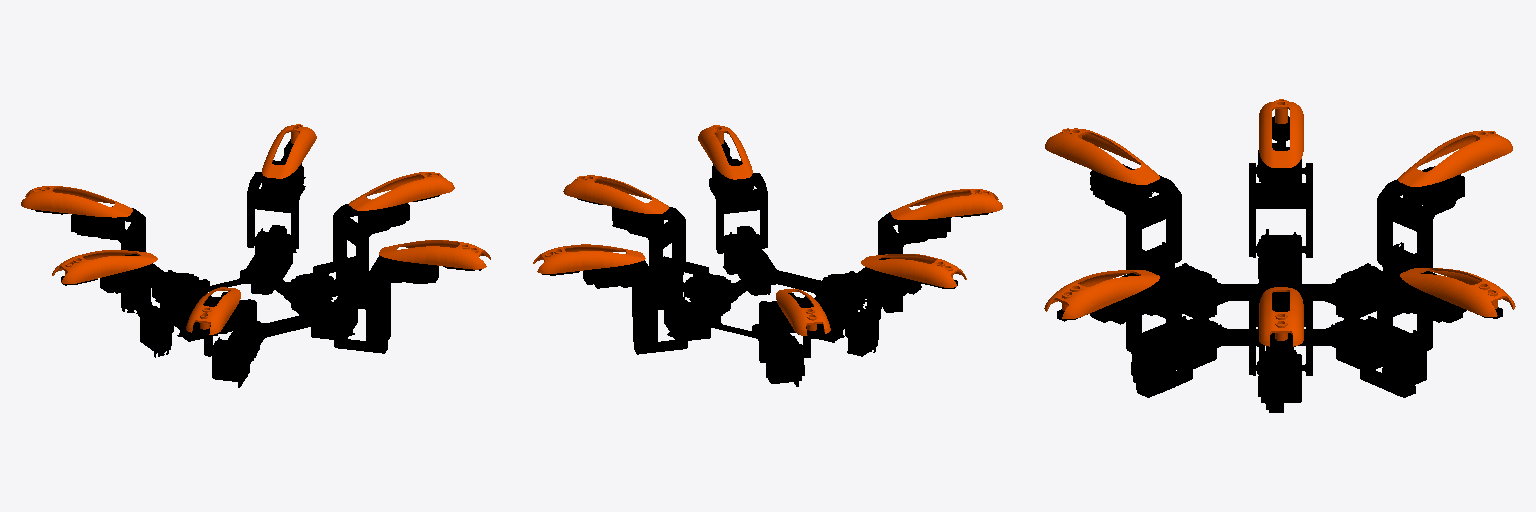
--- What the picture shows (computed from the rendered views, not written in the file) ---
Views: 3 orthographic renders of the robot side by side, from view 1: azimuth 30°, elevation 25°; view 2: azimuth 150°, elevation 25°; view 3: azimuth 270°, elevation 25°.
Robot: hexapod — 43 links, 42 joints (18 revolute, 24 fixed); root link base_link; default pose: every joint at zero.
Visible links, largest first — view 1: base_link, leg3_shield, leg6_shield, leg5_shield, leg2_shield, leg5_femur, leg4_femur, leg4_shield, leg1_MG996f, leg6_femur, leg2_femur, leg1_shield (+15 smaller); view 2: base_link, leg1_shield, leg4_shield, leg5_shield, leg2_shield, leg6_femur, leg5_femur, leg4_femur, leg3_MG996f, leg6_shield, leg2_femur, leg3_shield (+14 smaller); view 3: base_link, leg1_femur, leg3_femur, leg1_shield, leg3_shield, leg6_shield, leg4_shield, leg2_femur, leg2_shield, leg6_femur, leg5_MG996f, leg4_femur (+20 smaller).
Link boxes in pixels (x1=…): base_link: x1=152, y1=252, x2=357, y2=349; leg3_shield: x1=21, y1=186, x2=132, y2=217; leg6_shield: x1=379, y1=240, x2=490, y2=269; leg5_shield: x1=349, y1=172, x2=454, y2=210; leg2_shield: x1=52, y1=250, x2=157, y2=283; leg5_femur: x1=333, y1=204, x2=390, y2=287; leg4_femur: x1=247, y1=172, x2=305, y2=252; leg4_shield: x1=262, y1=124, x2=316, y2=178; leg1_MG996f: x1=212, y1=337, x2=249, y2=387; leg6_femur: x1=366, y1=255, x2=405, y2=331; leg2_femur: x1=136, y1=255, x2=173, y2=334; leg1_shield: x1=186, y1=287, x2=240, y2=334; base_link: x1=664, y1=253, x2=866, y2=344; leg1_shield: x1=890, y1=189, x2=1002, y2=219; leg4_shield: x1=533, y1=244, x2=645, y2=273; leg5_shield: x1=563, y1=175, x2=668, y2=213; leg2_shield: x1=861, y1=254, x2=966, y2=287; leg6_femur: x1=709, y1=173, x2=767, y2=253; leg5_femur: x1=626, y1=207, x2=685, y2=290; leg4_femur: x1=618, y1=260, x2=657, y2=336; leg3_MG996f: x1=766, y1=336, x2=804, y2=386; leg6_shield: x1=698, y1=125, x2=752, y2=179; leg2_femur: x1=845, y1=258, x2=885, y2=339; leg3_shield: x1=776, y1=288, x2=830, y2=335; base_link: x1=1161, y1=261, x2=1391, y2=361; leg1_femur: x1=1105, y1=175, x2=1181, y2=275; leg3_femur: x1=1377, y1=179, x2=1456, y2=273; leg1_shield: x1=1045, y1=128, x2=1159, y2=184; leg3_shield: x1=1398, y1=130, x2=1512, y2=186; leg6_shield: x1=1044, y1=270, x2=1159, y2=318; leg4_shield: x1=1400, y1=268, x2=1515, y2=316; leg2_femur: x1=1249, y1=163, x2=1312, y2=257; leg2_shield: x1=1259, y1=99, x2=1303, y2=167; leg6_femur: x1=1122, y1=275, x2=1181, y2=370; leg5_MG996f: x1=1256, y1=347, x2=1301, y2=409; leg4_femur: x1=1377, y1=273, x2=1436, y2=367.
Size in the robot's own frame: 0.4999 by 0.4181 by 0.1366 metres.
40 mesh visuals loaded from 9 distinct referenced files (8 binary STL); not drawn: 3 (reference not matched to a file when rendering).

The robot description file, URDF, robot "hexapod":
<?xml version='1.0' encoding='utf-8'?>
<robot name="hexapod">

    <material name="black">
        <color rgba="0 0 0 1" />
    </material>

    <material name="white">
        <color rgba="1 1 1 1" />
    </material>

    <material name="orange">
        <color rgba="0.902 0.345 0 1" />
    </material>

    <link name="base_link">
        <inertial>
            <origin xyz="-1.5537100736355798e-14 -0.002038403435229488 0.006938019086318811" rpy="0.0 0.0 0.0" />
            <mass value="0.6502139585141" />
            <inertia ixx="0.0022857824718964096" iyy="0.0021948811514730725" izz="0.00445927593589297" ixy="9.76998087550513e-17" iyz="2.7823052373888905e-06" ixz="-1.4621550745303059e-18" />
        </inertial>
        <visual name="base_link_visual">
            <origin xyz="0.0 0.0 0.0" rpy="0.0 0.0 0.0" />
            <geometry>
                <mesh filename="meshes/base.stl" scale="0.001 0.001 0.001" />
            </geometry>
            <material name="black" />
        </visual>
        <collision name="base_link_collision">
            <origin xyz="0.0 0.0 0.0" rpy="0.0 0.0 0.0" />
            <geometry>
                <mesh filename="meshes/base.stl" scale="0.001 0.001 0.001" />
            </geometry>
        </collision>
    </link>

    <!--Leg 1 links-->
    <link name="leg1_MG996c">
        <inertial>
            <origin xyz="-0.021304026820941267 0.013879409959177549 0.008216241413562222" rpy="0.0 -0.0 0.0" />
            <mass value="0.20641808912389753" />
            <inertia ixx="3.9125183253751247e-05" iyy="3.912518931914607e-05" izz="3.601102430698445e-05" ixy="1.135155464957328e-05" iyz="5.607951873505041e-07" ixz="-5.607857783954167e-07" />
        </inertial>
        <visual name="leg1_MG996c_visual">
            <origin xyz="-0.013930002111251399 -0.007283200121891467 -2.220446049250313e-18" rpy="3.141592653589793 -0.0 2.356194490192345" />
            <geometry>
                <mesh filename="meshes/MG996.stl" scale="0.001 0.001 0.001" />
            </geometry>
            <material name="black" />
        </visual>
        <collision name="leg1_MG996c_collision">
            <origin xyz="-0.013930002111251399 -0.007283200121891467 -2.220446049250313e-18" rpy="3.141592653589793 -0.0 2.356194490192345" />
            <geometry>
                <mesh filename="meshes/MG996.stl" scale="0.001 0.001 0.001" />
            </geometry>
        </collision>
    </link>
    <link name="leg1_coxa">
        <inertial>
            <origin xyz="-0.018048605950277 -0.017834011443633724 -0.02487963924889388" rpy="0.0 -0.0 0.0" />
            <mass value="0.07898637744159479" />
            <inertia ixx="6.0245481740664724e-05" iyy="6.0668022033295594e-05" izz="2.4265877776945624e-05" ixy="-1.0825354473683701e-05" iyz="4.178916067895382e-06" ixz="4.235353595363469e-06" />
        </inertial>
        <visual name="leg1_coxa_visual">
            <origin xyz="-0.03747666052846265 -0.03747666052845746 0.0010000000000000054" rpy="0.0 -0.0 -0.7853981633974483" />
            <geometry>
                <mesh filename="meshes/coxa_right.stl" scale="0.001 0.001 0.001" />
            </geometry>
            <material name="black" />
        </visual>
        <collision name="leg1_coxa_collision">
            <origin xyz="-0.03747666052846265 -0.03747666052845746 0.0010000000000000054" rpy="0.0 -0.0 -0.7853981633974483" />
            <geometry>
                <mesh filename="meshes/coxa_right.stl" scale="0.001 0.001 0.001" />
            </geometry>
        </collision>
    </link>
    <link name="leg1_MG996f">
        <inertial>
            <origin xyz="0.024878447972789576 0.009522068265377008 0.002097446836807624" rpy="0.0 -0.0 0.0" />
            <mass value="0.20641808912389753" />
            <inertia ixx="2.777363163687565e-05" iyy="4.3243875968366954e-05" izz="4.32438892746384e-05" ixy="5.607883384320042e-07" iyz="-7.232858314518663e-06" ixz="5.607926273139098e-07" />
        </inertial>
        <visual name="leg1_MG996f_visual">
            <origin xyz="0.004700000000000009 0.010606600931670993 -0.010606605868277549" rpy="2.356194490192345 5.551115123125783e-17 5.551115123125783e-17" />
            <geometry>
                <mesh filename="meshes/MG996.stl" scale="0.001 0.001 0.001" />
            </geometry>
            <material name="black" />
        </visual>
        <collision name="leg1_MG996f_collision">
            <origin xyz="0.004700000000000009 0.010606600931670993 -0.010606605868277549" rpy="2.356194490192345 5.551115123125783e-17 5.551115123125783e-17" />
            <geometry>
                <mesh filename="meshes/MG996.stl" scale="0.001 0.001 0.001" />
            </geometry>
        </collision>
    </link>
    <link name="leg1_femur">
        <inertial>
            <origin xyz="-0.018388939255642358 0.013969821069098333 0.04552760716696073" rpy="0.0 -0.0 0.0" />
            <mass value="0.2061355014221324" />
            <inertia ixx="0.0001174197530764338" iyy="0.0001250673024832975" izz="0.00010098830847293013" ixy="3.467542980046352e-05" iyz="1.1418298465589501e-05" ixz="4.86372304098529e-06" />
        </inertial>
        <visual name="leg1_femur_visual">
            <origin xyz="-0.030405593688388067 0.03040558825519895 1.1102230246251566e-17" rpy="1.5707963267948966 -0.6108652381980156 -2.356194490192345" />
            <geometry>
                <mesh filename="meshes/femur_right.stl" scale="0.001 0.001 0.001" />
            </geometry>
            <material name="black" />
        </visual>
        <collision name="leg1_femur_collision">
            <origin xyz="-0.030405593688388067 0.03040558825519895 1.1102230246251566e-17" rpy="1.5707963267948966 -0.6108652381980156 -2.356194490192345" />
            <geometry>
                <mesh filename="meshes/femur_right.stl" scale="0.001 0.001 0.001" />
            </geometry>
        </collision>
    </link>
    <link name="leg1_MG996t">
        <inertial>
            <origin xyz="-0.02074495471430888 -0.006501630387875857 2.688362599201355e-09" rpy="0.0 -0.0 0.0" />
            <mass value="0.20641808912389753" />
            <inertia ixx="3.1099250465400734e-05" iyy="3.268540547845828e-05" izz="5.047674093601982e-05" ixy="4.1186963350551605e-06" iyz="6.848918567926504e-12" ixz="2.560036816874473e-12" />
        </inertial>
        <visual name="leg1_MG996t_visual">
            <origin xyz="-0.029203512090292722 0.013576447026899193 0.009750004907434402" rpy="-1.5707963267948968 -7.053861262421881e-16 -0.7853981633974486" />
            <geometry>
                <mesh filename="meshes/MG996.stl" scale="0.001 0.001 0.001" />
            </geometry>
            <material name="black" />
        </visual>
        <collision name="leg1_MG996t_collision">
            <origin xyz="-0.029203512090292722 0.013576447026899193 0.009750004907434402" rpy="-1.5707963267948968 -7.053861262421881e-16 -0.7853981633974486" />
            <geometry>
                <mesh filename="meshes/MG996.stl" scale="0.001 0.001 0.001" />
            </geometry>
        </collision>
    </link>
    <link name="leg1_tibia">
        <inertial>
            <origin xyz="-0.03995109484200471 -0.025800551093325356 0.013220214065198625" rpy="0.0 -0.0 0.0" />
            <mass value="0.09285304614043148" />
            <inertia ixx="5.1309863875431536e-05" iyy="5.664323795965707e-05" izz="9.868903018824682e-05" ixy="-4.755379767065316e-05" iyz="5.1937257807535475e-06" ixz="6.548081736350214e-06" />
        </inertial>
        <visual name="leg1_tibia_visual">
            <origin xyz="-0.03648670888047988 -0.026162954811762767 -0.004750004907434402" rpy="-0.7853981633974483 -1.570796326794896 0" />
            <geometry>
                <mesh filename="meshes/tibia_right.stl" scale="0.001 0.001 0.001" />
            </geometry>
            <material name="black" />
        </visual>
        <collision name="leg1_tibia_collision">
            <origin xyz="-0.03648670888047988 -0.026162954811762767 -0.004750004907434402" rpy="-0.7853981633974483 -1.570796326794896 0" />
            <geometry>
                <mesh filename="meshes/tibia_right.stl" scale="0.001 0.001 0.001" />
            </geometry>
        </collision>
    </link>
    <link name="leg1_shield">
        <inertial>
            <origin xyz="0.0079568594346555 0.02272417345231009 -0.022724629731227283" rpy="0.0 -0.0 0.0" />
            <mass value="0.09400422482344938" />
            <inertia ixx="0.00011235877990886396" iyy="5.845313432736128e-05" izz="5.845346139379858e-05" ixy="2.724396003726077e-06" iyz="4.05725750517341e-05" ixz="-2.724973858622389e-06" />
        </inertial>
        <visual name="leg1_shield_visual">
            <origin xyz="-4.907434369982866e-09 0.0014142156932291528 0.02687005387244227" rpy="1.5707963267948968 0.7853981633974483 1.570796326794897" />
            <geometry>
                <mesh filename="meshes/shield.stl" scale="0.001 0.001 0.001" />
            </geometry>
            <material name="orange" />
        </visual>
        <collision name="leg1_shield_collision">
            <origin xyz="-4.907434369982866e-09 0.0014142156932291528 0.02687005387244227" rpy="1.5707963267948968 0.7853981633974483 1.570796326794897" />
            <geometry>
                <mesh filename="meshes/shield.stl" scale="0.001 0.001 0.001" />
            </geometry>
        </collision>
    </link>

    <!--Leg 2 links-->
    <link name="leg2_MG996c">
        <inertial>
            <origin xyz="-0.02487844797278954 -0.00524999778092809 0.008216241413562222" rpy="0.0 -0.0 0.0" />
            <mass value="0.20641808912389753" />
            <inertia ixx="2.7773631636875524e-05" iyy="5.047674093602156e-05" izz="3.601102430698445e-05" ixy="-3.0326974862454255e-12" iyz="6.653135933115804e-12" ixz="-7.93077506528665e-07" />
        </inertial>
        <visual name="leg2_MG996c_visual">
            <origin xyz="-0.00469999999999998 -0.014999999999999914 -2.220446049250313e-18" rpy="3.141592653589793 -0.0 3.141592653589793" />
            <geometry>
                <mesh filename="meshes/MG996.stl" scale="0.001 0.001 0.001" />
            </geometry>
            <material name="black" />
        </visual>
        <collision name="leg2_MG996c_collision">
            <origin xyz="-0.00469999999999998 -0.014999999999999914 -2.220446049250313e-18" rpy="3.141592653589793 -0.0 3.141592653589793" />
            <geometry>
                <mesh filename="meshes/MG996.stl" scale="0.001 0.001 0.001" />
            </geometry>
        </collision>
    </link>
    <link name="leg2_coxa">
        <inertial>
            <origin xyz="-0.025372840494155984 0.00015174123084907715 -0.02487963924889388" rpy="0.0 -0.0 0.0" />
            <mass value="0.07898637744159479" />
            <inertia ixx="4.963139741329645e-05" iyy="7.128210636066343e-05" izz="2.4265877776945407e-05" ixy="2.112701463155309e-07" iyz="-3.990735838609893e-08" ixz="5.949787137622529e-06" />
        </inertial>
        <visual name="leg2_coxa_visual">
            <origin xyz="-0.05299999999999999 -9.428360203700333e-17 0.0010000000000000054" rpy="0.0 -0.0 -1.5707963267948966" />
            <geometry>
                <mesh filename="meshes/coxa_right.stl" scale="0.001 0.001 0.001" />
            </geometry>
            <material name="black" />
        </visual>
        <collision name="leg2_coxa_collision">
            <origin xyz="-0.05299999999999999 -9.428360203700333e-17 0.0010000000000000054" rpy="0.0 -0.0 -1.5707963267948966" />
            <geometry>
                <mesh filename="meshes/coxa_right.stl" scale="0.001 0.001 0.001" />
            </geometry>
        </collision>
    </link>
    <link name="leg2_MG996t">
        <inertial>
            <origin xyz="-0.010071550349059244 -0.019266241413562125 2.6883626169649235e-09" rpy="0.0 -0.0 0.0" />
            <mass value="0.20641808912389753" />
            <inertia ixx="2.7773631636875e-05" iyy="3.601102430698423e-05" izz="5.047674093602069e-05" ixy="-7.930775065286854e-07" iyz="6.653135934699388e-12" ixz="-3.0326969234495404e-12" />
        </inertial>
        <visual name="leg2_MG996t_visual">
            <origin xyz="-0.030249998321848822 -0.0110499999999999 0.00975000490743443" rpy="-1.5707963267948966 -5.608327010386881e-16 -6.123233995736767e-17" />
            <geometry>
                <mesh filename="meshes/MG996.stl" scale="0.001 0.001 0.001" />
            </geometry>
            <material name="black" />
        </visual>
        <collision name="leg2_MG996t_collision">
            <origin xyz="-0.030249998321848822 -0.0110499999999999 0.00975000490743443" rpy="-1.5707963267948966 -5.608327010386881e-16 -6.123233995736767e-17" />
            <geometry>
                <mesh filename="meshes/MG996.stl" scale="0.001 0.001 0.001" />
            </geometry>
        </collision>
    </link>
    <link name="leg2_femur">
        <inertial>
            <origin xyz="-0.0031247845947251916 0.02288109973213494 0.04552760716696073" rpy="0.0 -0.0 0.0" />
            <mass value="0.2061355014221324" />
            <inertia ixx="0.00015591895758032938" iyy="8.656809797940278e-05" izz="0.00010098830847293013" ixy="3.823774703431824e-06" iyz="4.634784730536001e-06" ixz="1.1513127818724676e-05" />
        </inertial>
        <visual name="leg2_femur_visual">
            <origin xyz="0.0 0.0429999999999999 1.1102230246251566e-17" rpy="1.5707963267948966 -0.6108652381980154 -3.141592653589793" />
            <geometry>
                <mesh filename="meshes/femur_right.stl" scale="0.001 0.001 0.001" />
            </geometry>
            <material name="black" />
        </visual>
        <collision name="leg2_femur_collision">
            <origin xyz="0.0 0.0429999999999999 1.1102230246251566e-17" rpy="1.5707963267948966 -0.6108652381980154 -3.141592653589793" />
            <geometry>
                <mesh filename="meshes/femur_right.stl" scale="0.001 0.001 0.001" />
            </geometry>
        </collision>
    </link>
    <link name="leg2_MG996f">
        <inertial>
            <origin xyz="0.024878447972789576 0.00821624141356212 -0.00524999778092818" rpy="0.0 -0.0 0.0" />
            <mass value="0.20641808912389753" />
            <inertia ixx="2.7773631636876083e-05" iyy="3.601102430698553e-05" izz="5.047674093602181e-05" ixy="7.930775065286857e-07" iyz="6.653135927923125e-12" ixz="3.0326974655506267e-12" />
        </inertial>
        <visual name="leg2_MG996f_visual">
            <origin xyz="0.004700000000000009 -1.0325074129013956e-16 -0.015" rpy="1.5707963267948968 -0.0 3.749399456654644e-33" />
            <geometry>
                <mesh filename="meshes/MG996.stl" scale="0.001 0.001 0.001" />
            </geometry>
            <material name="black" />
        </visual>
        <collision name="leg2_MG996f_collision">
            <origin xyz="0.004700000000000009 -1.0325074129013956e-16 -0.015" rpy="1.5707963267948968 -0.0 3.749399456654644e-33" />
            <geometry>
                <mesh filename="meshes/MG996.stl" scale="0.001 0.001 0.001" />
            </geometry>
        </collision>
    </link>
    <link name="leg2_tibia">
        <inertial>
            <origin xyz="-0.04649343100105618 0.010005948932875887 0.002720214065198672" rpy="0.0 -0.0 0.0" />
            <mass value="0.09285304614043148" />
            <inertia ixx="6.42275324689147e-06" iyy="0.00010153034858819679" izz="9.86890301882459e-05" ixy="2.6666870421129167e-06" iyz="-9.576742803426859e-07" ixz="8.302711718731438e-06" />
        </inertial>
        <visual name="leg2_tibia_visual">
            <origin xyz="-0.0442999983218488 0.0072999999999999 -0.015250004907434373" rpy="-1.5707963267948966 -1.570796326794896 0" />
            <geometry>
                <mesh filename="meshes/tibia_right.stl" scale="0.001 0.001 0.001" />
            </geometry>
            <material name="black" />
        </visual>
        <collision name="leg2_tibia_collision">
            <origin xyz="-0.0442999983218488 0.0072999999999999 -0.015250004907434373" rpy="-1.5707963267948966 -1.570796326794896 0" />
            <geometry>
                <mesh filename="meshes/tibia_right.stl" scale="0.001 0.001 0.001" />
            </geometry>
        </collision>
    </link>
    <link name="leg2_shield">
        <inertial>
            <origin xyz="0.007956859434655553 -3.214487111319331e-07 -0.032137151919441255" rpy="0.0 -0.0 0.0" />
            <mass value="0.09400422482344938" />
            <inertia ixx="0.00011235877990886352" iyy="9.902587291231446e-05" izz="1.788072280884496e-05" ixy="-4.0860511540719057e-10" iyz="1.6353321903020065e-10" ixz="-3.853286382860194e-06" />
        </inertial>
        <visual name="leg2_shield_visual">
            <origin xyz="-4.9074343344557295e-09 0.01999999999999988 0.018000000805759805" rpy="4.295254065614839e-32 1.5707963267948966 0" />
            <geometry>
                <mesh filename="meshes/shield.stl" scale="0.001 0.001 0.001" />
            </geometry>
            <material name="orange" />
        </visual>
        <collision name="leg2_shield_collision">
            <origin xyz="-4.9074343344557295e-09 0.01999999999999988 0.018000000805759805" rpy="4.295254065614839e-32 1.5707963267948966 0" />
            <geometry>
                <mesh filename="meshes/shield.stl" scale="0.001 0.001 0.001" />
            </geometry>
        </collision>
    </link>

    <!--Leg 3 links-->
    <link name="leg3_MG996c">
        <inertial>
            <origin xyz="-0.013879409959183865 -0.02130402682093723 0.008216241413562222" rpy="0.0 -0.0 0.0" />
            <mass value="0.20641808912389753" />
            <inertia ixx="3.912518931914618e-05" iyy="3.9125183253751247e-05" izz="3.60110243069851e-05" ixy="-1.1351554649573063e-05" iyz="-5.607857783954167e-07" ixz="-5.60795187350477e-07" />
        </inertial>
        <visual name="leg3_MG996c_visual">
            <origin xyz="0.007283200121885147 -0.013930002111247354 -2.220446049250313e-18" rpy="3.141592653589793 -0.0 -2.356194490192345" />
            <geometry>
                <mesh filename="meshes/MG996.stl" scale="0.001 0.001 0.001" />
            </geometry>
            <material name="black" />
        </visual>
        <collision name="leg3_MG996c_collision">
            <origin xyz="0.007283200121885147 -0.013930002111247354 -2.220446049250313e-18" rpy="3.141592653589793 -0.0 -2.356194490192345" />
            <geometry>
                <mesh filename="meshes/MG996.stl" scale="0.001 0.001 0.001" />
            </geometry>
        </collision>
    </link>
    <link name="leg3_coxa">
        <inertial>
            <origin xyz="-0.017834011443640056 0.018048605950272946 -0.02487963924889388" rpy="0.0 -0.0 0.0" />
            <mass value="0.07898637744159479" />
            <inertia ixx="6.0668022033295486e-05" iyy="6.024548174066451e-05" izz="2.4265877776945407e-05" ixy="1.0825354473683701e-05" iyz="-4.235353595363456e-06" ixz="4.178916067895357e-06" />
        </inertial>
        <visual name="leg3_coxa_visual">
            <origin xyz="-0.03747666052846379 0.0374766605284586 0.0010000000000000054" rpy="0.0 -0.0 -2.356194490192345" />
            <geometry>
                <mesh filename="meshes/coxa_right.stl" scale="0.001 0.001 0.001" />
            </geometry>
            <material name="black" />
        </visual>
        <collision name="leg3_coxa_collision">
            <origin xyz="-0.03747666052846379 0.0374766605284586 0.0010000000000000054" rpy="0.0 -0.0 -2.356194490192345" />
            <geometry>
                <mesh filename="meshes/coxa_right.stl" scale="0.001 0.001 0.001" />
            </geometry>
        </collision>
    </link>
    <link name="leg3_MG996f">
        <inertial>
            <origin xyz="0.024878447972789576 0.002097446836803627 -0.009522068265370703" rpy="0.0 -0.0 0.0" />
            <mass value="0.20641808912389753" />
            <inertia ixx="2.7773631636876517e-05" iyy="4.3243889274639053e-05" izz="4.3243875968366954e-05" ixy="5.60792627313903e-07" iyz="7.232858314518663e-06" ixz="-5.607883384319974e-07" />
        </inertial>
        <visual name="leg3_MG996f_visual">
            <origin xyz="0.004700000000000009 -0.010606605868281545 -0.01060660093166467" rpy="0.7853981633974483 -0.0 0.0" />
            <geometry>
                <mesh filename="meshes/MG996.stl" scale="0.001 0.001 0.001" />
            </geometry>
            <material name="black" />
        </visual>
        <collision name="leg3_MG996f_collision">
            <origin xyz="0.004700000000000009 -0.010606605868281545 -0.01060660093166467" rpy="0.7853981633974483 -0.0 0.0" />
            <geometry>
                <mesh filename="meshes/MG996.stl" scale="0.001 0.001 0.001" />
            </geometry>
        </collision>
    </link>
    <link name="leg3_femur">
        <inertial>
            <origin xyz="0.013969821069091976 0.018388939255638323 0.04552760716696073" rpy="0.0 -0.0 0.0" />
            <mass value="0.2061355014221324" />
            <inertia ixx="0.00012506730248329836" iyy="0.0001174197530764338" izz="0.000100988308472931" ixy="-3.467542980046352e-05" iyz="-4.863723040985941e-06" ixz="1.1418298465589068e-05" />
        </inertial>
        <visual name="leg3_femur_visual">
            <origin xyz="0.03040558825519259 0.030405593688384053 1.1102230246251566e-17" rpy="1.5707963267948966 -0.6108652381980152 2.356194490192345" />
            <geometry>
                <mesh filename="meshes/femur_right.stl" scale="0.001 0.001 0.001" />
            </geometry>
            <material name="black" />
        </visual>
        <collision name="leg3_femur_collision">
            <origin xyz="0.03040558825519259 0.030405593688384053 1.1102230246251566e-17" rpy="1.5707963267948966 -0.6108652381980152 2.356194490192345" />
            <geometry>
                <mesh filename="meshes/femur_right.stl" scale="0.001 0.001 0.001" />
            </geometry>
        </collision>
    </link>
    <link name="leg3_MG996t">
        <inertial>
            <origin xyz="0.005794523434903134 0.0200378477613385 -2.6883626524920603e-09" rpy="0.0 -0.0 0.0" />
            <mass value="0.20641808912389753" />
            <inertia ixx="3.268540547845915e-05" iyy="3.109925046540159e-05" izz="5.047674093601982e-05" ixy="4.118696335054726e-06" iyz="2.5600368163814726e-12" ixz="6.848918349121394e-12" />
        </inertial>
        <visual name="leg3_MG996t_visual">
            <origin xyz="-0.014283553979871896 0.028496405137322347 -0.009750004907434481" rpy="1.5707963267948966 -3.885780586188048e-16 -0.7853981633974485" />
            <geometry>
                <mesh filename="meshes/MG996.stl" scale="0.001 0.001 0.001" />
            </geometry>
            <material name="black" />
        </visual>
        <collision name="leg3_MG996t_collision">
            <origin xyz="-0.014283553979871896 0.028496405137322347 -0.009750004907434481" rpy="1.5707963267948966 -3.885780586188048e-16 -0.7853981633974485" />
            <geometry>
                <mesh filename="meshes/MG996.stl" scale="0.001 0.001 0.001" />
            </geometry>
        </collision>
    </link>
    <link name="leg3_tibia">
        <inertial>
            <origin xyz="-0.025800548046298104 0.03995109788903433 0.013220214065198573" rpy="0.0 -0.0 0.0" />
            <mass value="0.09285304614043148" />
            <inertia ixx="5.664323795965664e-05" iyy="5.130986387543064e-05" izz="9.86890301882459e-05" ixy="4.7553797670652495e-05" iyz="-6.548081736349994e-06" ixz="5.1937257807537635e-06" />
        </inertial>
        <visual name="leg3_tibia_visual">
            <origin xyz="-0.026162951764735497 0.0364867119275095 -0.004750004907434464" rpy="-2.356194490192345 -1.5707963267948963 0" />
            <geometry>
                <mesh filename="meshes/tibia_right.stl" scale="0.001 0.001 0.001" />
            </geometry>
            <material name="black" />
        </visual>
        <collision name="leg3_tibia_collision">
            <origin xyz="-0.026162951764735497 0.0364867119275095 -0.004750004907434464" rpy="-2.356194490192345 -1.5707963267948963 0" />
            <geometry>
                <mesh filename="meshes/tibia_right.stl" scale="0.001 0.001 0.001" />
            </geometry>
        </collision>
    </link>
    <link name="leg3_shield">
        <inertial>
            <origin xyz="0.007956859434655428 -0.022724626684197596 -0.022724166499337298" rpy="-2.7369110631344083e-48 6.842277657836022e-49 -6.842277657836022e-49" />
            <mass value="0.09400422482344938" />
            <inertia ixx="0.0001123587799088648" iyy="5.8453461393798565e-05" izz="5.8453134327360844e-05" ixy="-2.724973858622388e-06" iyz="-4.0572575051734526e-05" ixz="-2.7243960037262936e-06" />
        </inertial>
        <visual name="leg3_shield_visual">
            <origin xyz="-4.907434458800708e-09 0.02687005691947199 -0.0014142087402563774" rpy="-1.5707963267948966 0.7853981633974483 -1.5707963267948966" />
            <geometry>
                <mesh filename="meshes/shield.stl" scale="0.001 0.001 0.001" />
            </geometry>
            <material name="orange" />
        </visual>
        <collision name="leg3_shield_collision">
            <origin xyz="-4.907434458800708e-09 0.02687005691947199 -0.0014142087402563774" rpy="-1.5707963267948966 0.7853981633974483 -1.5707963267948966" />
            <geometry>
                <mesh filename="meshes/shield.stl" scale="0.001 0.001 0.001" />
            </geometry>
        </collision>
    </link>

    <!--Leg 4 links-->
    <link name="leg4_MG996c">
        <inertial>
            <origin xyz="0.021304026820941204 -0.01387940995917754 0.008216241413562222" rpy="0.0 -0.0 0.0" />
            <mass value="0.20641808912389753" />
            <inertia ixx="3.912518325375103e-05" iyy="3.912518931914607e-05" izz="3.601102430698445e-05" ixy="1.1351554649573063e-05" iyz="-5.60795187350477e-07" ixz="5.607857783954031e-07" />
        </inertial>
        <visual name="leg4_MG996c_visual">
            <origin xyz="0.013930002111251337 0.007283200121891475 -2.220446049250313e-18" rpy="3.141592653589793 -0.0 -0.7853981633974483" />
            <geometry>
                <mesh filename="meshes/MG996.stl" scale="0.001 0.001 0.001" />
            </geometry>
            <material name="black" />
        </visual>
        <collision name="leg4_MG996c_collision">
            <origin xyz="0.013930002111251337 0.007283200121891475 -2.220446049250313e-18" rpy="3.141592653589793 -0.0 -0.7853981633974483" />
            <geometry>
                <mesh filename="meshes/MG996.stl" scale="0.001 0.001 0.001" />
            </geometry>
        </collision>
    </link>
    <link name="leg4_coxa">
        <inertial>
            <origin xyz="0.017834011443634532 0.018048605950276093 -0.024879639248893887" rpy="0.0 -0.0 0.0" />
            <mass value="0.07898637744159481" />
            <inertia ixx="6.066802203296567e-05" iyy="6.024548174035898e-05" izz="2.4265877776310065e-05" ixy="-1.0825354473048359e-05" iyz="-4.23535359535696e-06" ixz="-4.178916067901856e-06" />
        </inertial>
        <visual name="leg4_coxa_visual">
            <origin xyz="0.03747666052846258 0.037476660528457446 0.0010000000000000054" rpy="3.141592653589793 -0.0 -0.7853981633974485" />
            <geometry>
                <mesh filename="meshes/coxa_left.stl" scale="0.001 0.001 0.001" />
            </geometry>
            <material name="black" />
        </visual>
        <collision name="leg4_coxa_collision">
            <origin xyz="0.03747666052846258 0.037476660528457446 0.0010000000000000054" rpy="3.141592653589793 -0.0 -0.7853981633974485" />
            <geometry>
                <mesh filename="meshes/coxa_left.stl" scale="0.001 0.001 0.001" />
            </geometry>
        </collision>
    </link>
    <link name="leg4_MG996f">
        <inertial>
            <origin xyz="-0.024521552027210444 -0.009522073698561045 -0.0020974514036133664" rpy="0.0 -0.0 0.0" />
            <mass value="0.20641808912389753" />
            <inertia ixx="2.7773631636876517e-05" iyy="4.324387596836739e-05" izz="4.324388927463927e-05" ixy="-5.607883384319703e-07" iyz="-7.2328583145190965e-06" ixz="-5.607926273139301e-07" />
        </inertial>
        <visual name="leg4_MG996f_visual">
            <origin xyz="-0.04470000000000001 -0.010606606364855012 0.010606601301471806" rpy="-0.7853981633974485 -5.5511151231257815e-17 -1.1102230246251563e-16" />
            <geometry>
                <mesh filename="meshes/MG996.stl" scale="0.001 0.001 0.001" />
            </geometry>
            <material name="black" />
        </visual>
        <collision name="leg4_MG996f_collision">
            <origin xyz="-0.04470000000000001 -0.010606606364855012 0.010606601301471806" rpy="-0.7853981633974485 -5.5511151231257815e-17 -1.1102230246251563e-16" />
            <geometry>
                <mesh filename="meshes/MG996.stl" scale="0.001 0.001 0.001" />
            </geometry>
        </collision>
    </link>
    <link name="leg4_femur">
        <inertial>
            <origin xyz="-0.013969821069090945 0.018388939255639673 0.045527607166963115" rpy="0.0 -0.0 0.0" />
            <mass value="0.2061355014221325" />
            <inertia ixx="0.00012506730248260448" iyy="0.00011741975307571473" izz="0.00010098830847278525" ixy="3.4675429800533335e-05" iyz="-4.8637230415219685e-06" ixz="-1.141829846611317e-05" />
        </inertial>
        <visual name="leg4_femur_visual">
            <origin xyz="-0.03040558825519396 0.03040559368838304 2.4424906541753444e-17" rpy="1.5707963267948963 -0.6108652381980147 0.7853981633974478" />
            <geometry>
                <mesh filename="meshes/femur_left.stl" scale="0.001 0.001 0.001" />
            </geometry>
            <material name="black" />
        </visual>
        <collision name="leg4_femur_collision">
            <origin xyz="-0.03040558825519396 0.03040559368838304 2.4424906541753444e-17" rpy="1.5707963267948963 -0.6108652381980147 0.7853981633974478" />
            <geometry>
                <mesh filename="meshes/femur_left.stl" scale="0.001 0.001 0.001" />
            </geometry>
        </collision>
    </link>
    <link name="leg4_MG996t">
        <inertial>
            <origin xyz="-0.006501630387870669 -0.020744954714303744 7.126506247345787e-09" rpy="-1.5407439555097887e-33 1.232595164407831e-32 0.0" />
            <mass value="0.20641808912389753" />
            <inertia ixx="3.2685405478459134e-05" iyy="3.109925046540072e-05" izz="5.0476740936021544e-05" ixy="4.118696335055157e-06" iyz="-2.560036818518699e-12" ixz="-6.8489181349411156e-12" />
        </inertial>
        <visual name="leg4_MG996t_visual">
            <origin xyz="0.013576447026904397 -0.029203512090287608 -0.009749995092565564" rpy="1.5707963267948968 3.67395003908284e-16 2.3561944901923453" />
            <geometry>
                <mesh filename="meshes/MG996.stl" scale="0.001 0.001 0.001" />
            </geometry>
            <material name="black" />
        </visual>
        <collision name="leg4_MG996t_collision">
            <origin xyz="0.013576447026904397 -0.029203512090287608 -0.009749995092565564" rpy="1.5707963267948968 3.67395003908284e-16 2.3561944901923453" />
            <geometry>
                <mesh filename="meshes/MG996.stl" scale="0.001 0.001 0.001" />
            </geometry>
        </collision>
    </link>
    <link name="leg4_tibia">
        <inertial>
            <origin xyz="0.025800551093330404 0.039951094841999525 0.013220214065198634" rpy="0.0 -0.0 -6.123514873949634e-63" />
            <mass value="0.09285304614043133" />
            <inertia ixx="5.6643237959664444e-05" iyy="5.1309863875438e-05" izz="9.868903018825977e-05" ixy="-4.7553797670659644e-05" iyz="-6.548081736350427e-06" ixz="-5.193725780753547e-06" />
        </inertial>
        <visual name="leg4_tibia_visual">
            <origin xyz="0.026162954811767863 0.03648670888047475 -0.004750004907434428" rpy="2.3561944901923457 -1.5707963267948963 0" />
            <geometry>
                <mesh filename="meshes/tibia_left.stl" scale="0.001 0.001 0.001" />
            </geometry>
            <material name="black" />
        </visual>
        <collision name="leg4_tibia_collision">
            <origin xyz="0.026162954811767863 0.03648670888047475 -0.004750004907434428" rpy="2.3561944901923457 -1.5707963267948963 0" />
            <geometry>
                <mesh filename="meshes/tibia_left.stl" scale="0.001 0.001 0.001" />
            </geometry>
        </collision>
    </link>
    <link name="leg4_shield">
        <inertial>
            <origin xyz="0.007956859434655482 0.0227241751341057 -0.02272462804943171" rpy="0.0 6.842277657836022e-49 0.0" />
            <mass value="0.09400422482344938" />
            <inertia ixx="0.0001123587799088648" iyy="5.845313432735996e-05" izz="5.845346139379901e-05" ixy="2.724396003726727e-06" iyz="4.0572575051735394e-05" ixz="-2.7249738586223884e-06" />
        </inertial>
        <visual name="leg4_shield_visual">
            <origin xyz="-4.907434423273571e-09 0.0014142173750247267 0.026870055554237843" rpy="1.5707963267948963 0.7853981633974475 1.5707963267948961" />
            <geometry>
                <mesh filename="meshes/shield.stl" scale="0.001 0.001 0.001" />
            </geometry>
            <material name="orange" />
        </visual>
        <collision name="leg4_shield_collision">
            <origin xyz="-4.907434423273571e-09 0.0014142173750247267 0.026870055554237843" rpy="1.5707963267948963 0.7853981633974475 1.5707963267948961" />
            <geometry>
                <mesh filename="meshes/shield.stl" scale="0.001 0.001 0.001" />
            </geometry>
        </collision>
    </link>

    <!--Leg 5 links-->
    <link name="leg5_MG996c">
        <inertial>
            <origin xyz="0.02487844797278954 0.005249997780928263 0.008216241413562222" rpy="0.0 -0.0 0.0" />
            <mass value="0.20641808912389753" />
            <inertia ixx="2.7773631636875538e-05" iyy="5.047674093602156e-05" izz="3.601102430698445e-05" ixy="-3.0326974931145142e-12" iyz="-6.653135931721467e-12" ixz="7.93077506528665e-07" />
        </inertial>
        <visual name="leg5_MG996c_visual">
            <origin xyz="0.00469999999999998 0.015000000000000084 -2.220446049250313e-18" rpy="3.141592653589793 -0.0 0.0" />
            <geometry>
                <mesh filename="meshes/MG996.stl" scale="0.001 0.001 0.001" />
            </geometry>
            <material name="black" />
        </visual>
        <collision name="leg5_MG996c_collision">
            <origin xyz="0.00469999999999998 0.015000000000000084 -2.220446049250313e-18" rpy="3.141592653589793 -0.0 0.0" />
            <geometry>
                <mesh filename="meshes/MG996.stl" scale="0.001 0.001 0.001" />
            </geometry>
        </collision>
    </link>
    <link name="leg5_coxa">
        <inertial>
            <origin xyz="0.025372840494155967 0.00015174123085516145 -0.024879639248893887" rpy="0.0 -0.0 0.0" />
            <mass value="0.07898637744159481" />
            <inertia ixx="4.9631397413614e-05" iyy="7.128210635971063e-05" izz="2.4265877776310173e-05" ixy="-2.112701463033402e-07" iyz="-3.9907358376888544e-08" ixz="-5.949787137622581e-06" />
        </inertial>
        <visual name="leg5_coxa_visual">
            <origin xyz="0.05299999999999999 -9.30026689001082e-17 0.0010000000000000054" rpy="3.141592653589793 -0.0 -1.5707963267948968" />
            <geometry>
                <mesh filename="meshes/coxa_left.stl" scale="0.001 0.001 0.001" />
            </geometry>
            <material name="black" />
        </visual>
        <collision name="leg5_coxa_collision">
            <origin xyz="0.05299999999999999 -9.30026689001082e-17 0.0010000000000000054" rpy="3.141592653589793 -0.0 -1.5707963267948968" />
            <geometry>
                <mesh filename="meshes/coxa_left.stl" scale="0.001 0.001 0.001" />
            </geometry>
        </collision>
    </link>
    <link name="leg5_MG996f">
        <inertial>
            <origin xyz="0.02487844797278957 -0.008216241413562128 0.005249997780928162" rpy="0.0 -0.0 0.0" />
            <mass value="0.20641808912389753" />
            <inertia ixx="2.777363163687565e-05" iyy="3.60110243069851e-05" izz="5.047674093602178e-05" ixy="-7.930775065286956e-07" iyz="6.6531359482519155e-12" ixz="-3.032697492655681e-12" />
        </inertial>
        <visual name="leg5_MG996f_visual">
            <origin xyz="0.004700000000000006 9.880984919163893e-17 0.014999999999999982" rpy="-1.5707963267948968 -1.224646799147353e-16 1.5559211466421447e-32" />
            <geometry>
                <mesh filename="meshes/MG996.stl" scale="0.001 0.001 0.001" />
            </geometry>
            <material name="black" />
        </visual>
        <collision name="leg5_MG996f_collision">
            <origin xyz="0.004700000000000006 9.880984919163893e-17 0.014999999999999982" rpy="-1.5707963267948968 -1.224646799147353e-16 1.5559211466421447e-32" />
            <geometry>
                <mesh filename="meshes/MG996.stl" scale="0.001 0.001 0.001" />
            </geometry>
        </collision>
    </link>
    <link name="leg5_femur">
        <inertial>
            <origin xyz="0.0031247845947285314 0.02288109973213497 0.04552760716696307" rpy="0.0 -0.0 0.0" />
            <mass value="0.2061355014221325" />
            <inertia ixx="0.0001559189575796934" iyy="8.656809797862215e-05" izz="0.00010098830847278658" ixy="-3.823774703444591e-06" iyz="4.6347847305270836e-06" ixz="-1.1513127819474294e-05" />
        </inertial>
        <visual name="leg5_femur_visual">
            <origin xyz="0.0 0.04299999999999991 4.440892098500626e-18" rpy="1.5707963267948966 -0.6108652381980154 -1.8369701987210294e-16" />
            <geometry>
                <mesh filename="meshes/femur_left.stl" scale="0.001 0.001 0.001" />
            </geometry>
            <material name="black" />
        </visual>
        <collision name="leg5_femur_collision">
            <origin xyz="0.0 0.04299999999999991 4.440892098500626e-18" rpy="1.5707963267948966 -0.6108652381980154 -1.8369701987210294e-16" />
            <geometry>
                <mesh filename="meshes/femur_left.stl" scale="0.001 0.001 0.001" />
            </geometry>
        </collision>
    </link>
    <link name="leg5_MG996t">
        <inertial>
            <origin xyz="0.01007155034905928 -0.01926624141356212 7.126506238464003e-09" rpy="0.0 -0.0 0.0" />
            <mass value="0.20641808912389753" />
            <inertia ixx="2.7773631636875433e-05" iyy="3.601102430698597e-05" izz="5.047674093601982e-05" ixy="7.930775065286854e-07" iyz="-6.65313593808752e-12" ixz="-3.0326969234495404e-12" />
        </inertial>
        <visual name="leg5_MG996t_visual">
            <origin xyz="0.030249998321848822 -0.011049999999999892 -0.009749995092565591" rpy="1.5707963267948966 -2.947193223346186e-16 -3.141592653589793" />
            <geometry>
                <mesh filename="meshes/MG996.stl" scale="0.001 0.001 0.001" />
            </geometry>
            <material name="black" />
        </visual>
        <collision name="leg5_MG996t_collision">
            <origin xyz="0.030249998321848822 -0.011049999999999892 -0.009749995092565591" rpy="1.5707963267948966 -2.947193223346186e-16 -3.141592653589793" />
            <geometry>
                <mesh filename="meshes/MG996.stl" scale="0.001 0.001 0.001" />
            </geometry>
        </collision>
    </link>
    <link name="leg5_tibia">
        <inertial>
            <origin xyz="0.046493431001056094 0.01000594893287588 0.0027202140651986363" rpy="0.0 -0.0 0.0" />
            <mass value="0.09285304614043133" />
            <inertia ixx="6.422753246891251e-06" iyy="0.00010153034858821064" izz="9.86890301882602e-05" ixy="-2.6666870421129565e-06" iyz="-9.576742803426856e-07" ixz="-8.30271171873122e-06" />
        </inertial>
        <visual name="leg5_tibia_visual">
            <origin xyz="0.04429999832184882 0.007299999999999891 -0.01525000490743441" rpy="1.5707963267948963 -1.5707963267948963 0" />
            <geometry>
                <mesh filename="meshes/tibia_left.stl" scale="0.001 0.001 0.001" />
            </geometry>
            <material name="black" />
        </visual>
        <collision name="leg5_tibia_collision">
            <origin xyz="0.04429999832184882 0.007299999999999891 -0.01525000490743441" rpy="1.5707963267948963 -1.5707963267948963 0" />
            <geometry>
                <mesh filename="meshes/tibia_left.stl" scale="0.001 0.001 0.001" />
            </geometry>
        </collision>
    </link>
    <link name="leg5_shield">
        <inertial>
            <origin xyz="0.007956859434655482 -3.214487109154396e-07 -0.03213715191944118" rpy="0.0 -0.0 0.0" />
            <mass value="0.09400422482344938" />
            <inertia ixx="0.00011235877990886482" iyy="9.902587291231446e-05" izz="1.7880722808844853e-05" ixy="-4.0860511541396683e-10" iyz="1.6353321898954307e-10" ixz="-3.853286382860411e-06" />
        </inertial>
        <visual name="leg5_shield_visual">
            <origin xyz="-4.907434369982866e-09 0.0200000000000001 0.018000000805759874" rpy="1.0845452443044073e-31 1.570796326794896 0" />
            <geometry>
                <mesh filename="meshes/shield.stl" scale="0.001 0.001 0.001" />
            </geometry>
            <material name="orange" />
        </visual>
        <collision name="leg5_shield_collision">
            <origin xyz="-4.907434369982866e-09 0.0200000000000001 0.018000000805759874" rpy="1.0845452443044073e-31 1.570796326794896 0" />
            <geometry>
                <mesh filename="meshes/shield.stl" scale="0.001 0.001 0.001" />
            </geometry>
        </collision>
    </link>

    <!--Leg 6 links-->
    <link name="leg6_MG996c">
        <inertial>
            <origin xyz="0.013879409959183846 0.021304026820937193 0.008216241413562222" rpy="0.0 -0.0 0.0" />
            <mass value="0.20641808912389753" />
            <inertia ixx="3.912518931914661e-05" iyy="3.9125183253751247e-05" izz="3.6011024306985316e-05" ixy="-1.1351554649573388e-05" iyz="5.607857783954167e-07" ixz="5.607951873505041e-07" />
        </inertial>
        <visual name="leg6_MG996c_visual">
            <origin xyz="-0.00728320012188517 0.013930002111247335 -2.220446049250313e-18" rpy="3.141592653589793 -0.0 0.7853981633974483" />
            <geometry>
                <mesh filename="meshes/MG996.stl" scale="0.001 0.001 0.001" />
            </geometry>
            <material name="black" />
        </visual>
        <collision name="leg6_MG996c_collision">
            <origin xyz="-0.00728320012188517 0.013930002111247335 -2.220446049250313e-18" rpy="3.141592653589793 -0.0 0.7853981633974483" />
            <geometry>
                <mesh filename="meshes/MG996.stl" scale="0.001 0.001 0.001" />
            </geometry>
        </collision>
    </link>
    <link name="leg6_coxa">
        <inertial>
            <origin xyz="0.018048605950282397 -0.017834011443630563 -0.024879639248893887" rpy="0.0 -0.0 0.0" />
            <mass value="0.07898637744159481" />
            <inertia ixx="6.024548174035909e-05" iyy="6.066802203296567e-05" izz="2.4265877776310065e-05" ixy="1.0825354473048359e-05" iyz="4.178916067901885e-06" ixz="-4.23535359535694e-06" />
        </inertial>
        <visual name="leg6_coxa_visual">
            <origin xyz="0.037476660528463754 -0.0374766605284586 0.0010000000000000054" rpy="3.141592653589793 -0.0 -2.356194490192345" />
            <geometry>
                <mesh filename="meshes/coxa_left.stl" scale="0.001 0.001 0.001" />
            </geometry>
            <material name="black" />
        </visual>
        <collision name="leg6_coxa_collision">
            <origin xyz="0.037476660528463754 -0.0374766605284586 0.0010000000000000054" rpy="3.141592653589793 -0.0 -2.356194490192345" />
            <geometry>
                <mesh filename="meshes/coxa_left.stl" scale="0.001 0.001 0.001" />
            </geometry>
        </collision>
    </link>
    <link name="leg6_MG996f">
        <inertial>
            <origin xyz="0.024878447972789576 -0.0020974514036173632 0.009522073698567297" rpy="0.0 -0.0 0.0" />
            <mass value="0.20641808912389753" />
            <inertia ixx="2.777363163687565e-05" iyy="4.3243889274639053e-05" izz="4.324387596836739e-05" ixy="-5.607926273139301e-07" iyz="7.232858314518663e-06" ixz="5.607883384319703e-07" />
        </inertial>
        <visual name="leg6_MG996f_visual">
            <origin xyz="0.004700000000000009 0.01060660130146781 0.010606606364861283" rpy="-2.356194490192345 1.1102230246251565e-16 -1.1102230246251565e-16" />
            <geometry>
                <mesh filename="meshes/MG996.stl" scale="0.001 0.001 0.001" />
            </geometry>
            <material name="black" />
        </visual>
        <collision name="leg6_MG996f_collision">
            <origin xyz="0.004700000000000009 0.01060660130146781 0.010606606364861283" rpy="-2.356194490192345 1.1102230246251565e-16 -1.1102230246251565e-16" />
            <geometry>
                <mesh filename="meshes/MG996.stl" scale="0.001 0.001 0.001" />
            </geometry>
        </collision>
    </link>
    <link name="leg6_femur">
        <inertial>
            <origin xyz="0.01838893925564591 0.01396982106909478 0.04552760716696309" rpy="0.0 -0.0 0.0" />
            <mass value="0.2061355014221325" />
            <inertia ixx="0.00011741975307571258" iyy="0.00012506730248260106" izz="0.00010098830847278534" ixy="-3.467542980053552e-05" iyz="1.141829846611274e-05" ixz="-4.863723041521754e-06" />
        </inertial>
        <visual name="leg6_femur_visual">
            <origin xyz="0.030405593688389257 0.030405588255197725 1.5543122344752193e-17" rpy="1.5707963267948966 -0.6108652381980157 -0.7853981633974482" />
            <geometry>
                <mesh filename="meshes/femur_left.stl" scale="0.001 0.001 0.001" />
            </geometry>
            <material name="black" />
        </visual>
        <collision name="leg6_femur_collision">
            <origin xyz="0.030405593688389257 0.030405588255197725 1.5543122344752193e-17" rpy="1.5707963267948966 -0.6108652381980157 -0.7853981633974482" />
            <geometry>
                <mesh filename="meshes/femur_left.stl" scale="0.001 0.001 0.001" />
            </geometry>
        </collision>
    </link>
    <link name="leg6_MG996t">
        <inertial>
            <origin xyz="0.020744954714310017 -0.006501630387874666 7.126506282872924e-09" rpy="0.0 -0.0 0.0" />
            <mass value="0.20641808912389753" />
            <inertia ixx="3.109925046540247e-05" iyy="3.268540547845828e-05" izz="5.047674093602245e-05" ixy="-4.118696335055157e-06" iyz="-6.848918567697872e-12" ixz="2.560036384269271e-12" />
        </inertial>
        <visual name="leg6_MG996t_visual">
            <origin xyz="0.02920351209029386 0.0135764470269004 -0.009749995092565538" rpy="1.5707963267948966 -1.110223024625156e-16 -2.356194490192345" />
            <geometry>
                <mesh filename="meshes/MG996.stl" scale="0.001 0.001 0.001" />
            </geometry>
            <material name="black" />
        </visual>
        <collision name="leg6_MG996t_collision">
            <origin xyz="0.02920351209029386 0.0135764470269004 -0.009749995092565538" rpy="1.5707963267948966 -1.110223024625156e-16 -2.356194490192345" />
            <geometry>
                <mesh filename="meshes/MG996.stl" scale="0.001 0.001 0.001" />
            </geometry>
        </collision>
    </link>
    <link name="leg6_tibia">
        <inertial>
            <origin xyz="0.039951094842005756 -0.025800551093326546 0.01322021406519859" rpy="0.0 -0.0 0.0" />
            <mass value="0.09285304614043133" />
            <inertia ixx="5.130986387543804e-05" iyy="5.6643237959664444e-05" izz="9.868903018825983e-05" ixy="4.755379767065945e-05" iyz="5.193725780753764e-06" ixz="-6.548081736350214e-06" />
        </inertial>
        <visual name="leg6_tibia_visual">
            <origin xyz="0.036486708880480986 -0.02616295481176401 -0.004750004907434464" rpy="0.7853981633974483 -1.5707963267948966 0" />
            <geometry>
                <mesh filename="meshes/tibia_left.stl" scale="0.001 0.001 0.001" />
            </geometry>
            <material name="black" />
        </visual>
        <collision name="leg6_tibia_collision">
            <origin xyz="0.036486708880480986 -0.02616295481176401 -0.004750004907434464" rpy="0.7853981633974483 -1.5707963267948966 0" />
            <geometry>
                <mesh filename="meshes/tibia_left.stl" scale="0.001 0.001 0.001" />
            </geometry>
        </collision>
    </link>
    <link name="leg6_shield">
        <inertial>
            <origin xyz="0.007956859434655428 -0.022724628049435473 -0.02272417513409943" rpy="0.0 -0.0 0.0" />
            <mass value="0.09400422482344938" />
            <inertia ixx="0.00011235877990886396" iyy="5.845346139379988e-05" izz="5.8453134327359976e-05" ixy="-2.724973858621955e-06" iyz="-4.057257505173497e-05" ixz="-2.7243960037267277e-06" />
        </inertial>
        <visual name="leg6_shield_visual">
            <origin xyz="-4.907434458800708e-09 0.02687005555423408 -0.001414217375018474" rpy="-1.5707963267948966 0.7853981633974482 -1.5707963267948966" />
            <geometry>
                <mesh filename="meshes/shield.stl" scale="0.001 0.001 0.001" />
            </geometry>
            <material name="orange" />
        </visual>
        <collision name="leg6_shield_collision">
            <origin xyz="-4.907434458800708e-09 0.02687005555423408 -0.001414217375018474" rpy="-1.5707963267948966 0.7853981633974482 -1.5707963267948966" />
            <geometry>
                <mesh filename="meshes/shield.stl" scale="0.001 0.001 0.001" />
            </geometry>
        </collision>
    </link>

    <!--Leg 1 joints-->
    <joint name="base_link_leg1_MG996c" type="fixed">
        <origin xyz="-0.03264053 -0.060065150000000005 0.013999999999999999" rpy="3.141592653589793 -0.0 0.0" />
        <parent link="base_link" />
        <child link="leg1_MG996c" />
    </joint>
    <joint name="leg1_coxa_joint" type="revolute">
        <origin xyz="-0.028425689999999997 0.021001069999999997 -0.01005" rpy="3.141592653589793 -0.0 0.0" />
        <parent link="leg1_MG996c" />
        <child link="leg1_coxa" />
        <axis xyz="0.0 0.0 1.0" />
        <limit lower="-1.570796" upper="1.570796" effort="1000000" velocity="1000000" />
    </joint>
    <joint name="leg1_coxa_MG996f" type="fixed">
        <origin xyz="-0.02916816000000001 -0.03906765 -0.04585" rpy="-0.0 -1.5707963267948966 0" />
        <parent link="leg1_coxa" />
        <child link="leg1_MG996f" />
    </joint>
    <joint name="leg1_femur_joint" type="revolute">
        <origin xyz="0.03495 -0.0033941100000000014 -0.010818740000000009" rpy="-0.0 1.5707963267948966 0" />
        <parent link="leg1_MG996f" />
        <child link="leg1_femur" />
        <axis xyz="0.707107 -0.707107 0.0" />
        <limit lower="-0.785398" upper="2.356194" effort="1000000" velocity="1000000" />
    </joint>
    <joint name="leg1_tibia_joint" type="revolute">
        <origin xyz="-0.020211430000000002 -0.021625650000000007 0.06344155000000001" rpy="3.141592653589793 -5.551115123125783e-17 0.0" />
        <parent link="leg1_femur" />
        <child link="leg1_MG996t" />
        <axis xyz="0.707107 0.707107 3.925232361368103e-17" />
        <limit lower="0.0" upper="1.570796" effort="1000000" velocity="1000000" />
    </joint>
    <joint name="leg1_MG996t_tibia" type="fixed">
        <origin xyz="0.0024041599999999976 -0.018031230000000013 0.005250000000000004" rpy="-3.141592653589793 -5.55111512312578e-17 0.0" />
        <parent link="leg1_MG996t" />
        <child link="leg1_tibia" />
    </joint>
    <joint name="leg1_tibia_shield" type="fixed">
        <origin xyz="-0.07392547999999997 -0.05794487000000002 0.02125" rpy="-3.222902565236662e-64 -1.5707963267948966 0" />
        <parent link="leg1_tibia" />
        <child link="leg1_shield" />
    </joint>

    <!--Leg 2 joints-->
    <joint name="base_link_leg2_MG996c" type="fixed">
        <origin xyz="-0.046200000000000005 -0.00525 0.013999999999999999" rpy="3.141592653589793 -0.0 0.0" />
        <parent link="base_link" />
        <child link="leg2_MG996c" />
    </joint>
    <joint name="leg2_coxa_joint" type="revolute">
        <origin xyz="-0.03495 -0.00525 -0.01005" rpy="3.141592653589793 -0.0 0.0" />
        <parent link="leg2_MG996c" />
        <child link="leg2_coxa" />
        <axis xyz="0.0 0.0 1.0" />
        <limit lower="-1.570796" upper="1.570796" effort="1000000" velocity="1000000" />
    </joint>
    <joint name="leg2_coxa_MG996f" type="fixed">
        <origin xyz="-0.048249999999999994 -0.006999999999999999 -0.04585" rpy="-0.0 -1.5707963267948966 0" />
        <parent link="leg2_coxa" />
        <child link="leg2_MG996f" />
    </joint>
    <joint name="leg2_femur_joint" type="revolute">
        <origin xyz="0.03495 -0.010050000000000002 -0.005250000000000004" rpy="-0.0 1.5707963267948966 0" />
        <parent link="leg2_MG996f" />
        <child link="leg2_femur" />
        <axis xyz="0.0 -1.0 0.0" />
        <limit lower="-0.785398" upper="2.356194" effort="1000000" velocity="1000000" />
    </joint>
    <joint name="leg2_tibia_joint" type="revolute">
        <origin xyz="-0.029583280000000017 -0.0009999999999999987 0.06344155000000001" rpy="3.141592653589793 -0.0 0.0" />
        <parent link="leg2_femur" />
        <child link="leg2_MG996t" />
        <axis xyz="0.0 1.0 0.0" />
        <limit lower="0.0" upper="1.570796" effort="1000000" velocity="1000000" />
    </joint>
    <joint name="leg2_MG996t_tibia" type="fixed">
        <origin xyz="0.014450000000000003 -0.01105 -0.005250000000000004" rpy="-3.141592653589793 -1.2516661846134429e-49 0.0" />
        <parent link="leg2_MG996t" />
        <child link="leg2_tibia" />
    </joint>
    <joint name="leg2_tibia_shield" type="fixed">
        <origin xyz="-0.09324641 0.0113 0.010749999999999994" rpy="-0.0 -1.5707963267948966 0" />
        <parent link="leg2_tibia" />
        <child link="leg2_shield" />
    </joint>

    <!--Leg 3 joints-->
    <joint name="base_link_leg3_MG996c" type="fixed">
        <origin xyz="-0.04006515 0.05264053 0.013999999999999999" rpy="3.141592653589793 -0.0 0.0" />
        <parent link="base_link" />
        <child link="leg3_MG996c" />
    </joint>
    <joint name="leg3_coxa_joint" type="revolute">
        <origin xyz="-0.021001069999999997 -0.028425690000000003 -0.01005" rpy="3.141592653589793 -0.0 0.0" />
        <parent link="leg3_MG996c" />
        <child link="leg3_coxa" />
        <axis xyz="0.0 0.0 1.0" />
        <limit lower="-1.570796" upper="1.570796" effort="1000000" velocity="1000000" />
    </joint>
    <joint name="leg3_coxa_MG996f" type="fixed">
        <origin xyz="-0.03906765 0.02916816000000001 -0.04585" rpy="-0.0 -1.5707963267948966 0" />
        <parent link="leg3_coxa" />
        <child link="leg3_MG996f" />
    </joint>
    <joint name="leg3_femur_joint" type="revolute">
        <origin xyz="0.03495 -0.010818740000000009 0.0033941100000000014" rpy="-0.0 1.5707963267948966 0" />
        <parent link="leg3_MG996f" />
        <child link="leg3_femur" />
        <axis xyz="-0.707107 -0.707107 0.0" />
        <limit lower="-0.785398" upper="2.356194" effort="1000000" velocity="1000000" />
    </joint>
    <joint name="leg3_tibia_joint" type="revolute">
        <origin xyz="-0.02268630999999999 0.01915077 0.06344155000000001" rpy="0.0 0.0 0.0" />
        <parent link="leg3_femur" />
        <child link="leg3_MG996t" />
        <axis xyz="-0.707107 -0.707107 0.0" />
        <limit lower="0.0" upper="1.570796" effort="1000000" velocity="1000000" />
    </joint>
    <joint name="leg3_MG996t_tibia" type="fixed">
        <origin xyz="0.017324120000000002 -0.0031112699999999906 -0.0052500000000000125" rpy="0.0 -3.050517397236834e-32 1.3465939511877539e-48" />
        <parent link="leg3_MG996t" />
        <child link="leg3_tibia" />
    </joint>
    <joint name="leg3_tibia_shield" type="fixed">
        <origin xyz="-0.05794486000000001 0.07392547999999997 0.02125" rpy="4.930380657631325e-32 -1.5707963267948966 0" />
        <parent link="leg3_tibia" />
        <child link="leg3_shield" />
    </joint>

    <!--Leg 4 joints-->
    <joint name="base_link_leg4_MG996c" type="fixed">
        <origin xyz="0.03264053 0.060065150000000005 0.013999999999999999" rpy="3.141592653589793 -0.0 0.0" />
        <parent link="base_link" />
        <child link="leg4_MG996c" />
    </joint>
    <joint name="leg4_coxa_joint" type="revolute">
        <origin xyz="0.028425689999999997 -0.021001069999999997 -0.01005" rpy="3.141592653589793 -0.0 0.0" />
        <parent link="leg4_MG996c" />
        <child link="leg4_coxa" />
        <axis xyz="0.0 0.0 1.0" />
        <limit lower="-1.570796" upper="1.570796" effort="1000000" velocity="1000000" />
    </joint>
    <joint name="leg4_coxa_MG996f" type="fixed">
        <origin xyz="0.03164303 0.02174353 0.0027500000000000037" rpy="-3.141592653589793 -1.5707963267948966 0" />
        <parent link="leg4_coxa" />
        <child link="leg4_MG996f" />
    </joint>
    <joint name="leg4_femur_joint" type="revolute">
        <origin xyz="-0.014450000000000001 0.0033941100000000014 0.010818729999999999" rpy="3.141592653589793 -1.5707963267948966 0" />
        <parent link="leg4_MG996f" />
        <child link="leg4_femur" />
        <axis xyz="0.707107 -0.7071069999999999 -4.6222332968741714e-33" />
        <limit lower="-2.356194" upper="0.785398" effort="1000000" velocity="1000000" />
    </joint>
    <joint name="leg4_tibia_joint" type="revolute">
        <origin xyz="0.021625650000000007 0.020211430000000002 0.06344155" rpy="3.141592653589793 -5.592845782213251e-17 -3.655944291150896e-49" />
        <parent link="leg4_femur" />
        <child link="leg4_MG996t" />
        <axis xyz="-0.7071069999999999 -0.7071069999999999 -3.228531091625886e-17" />
        <limit lower="0.0" upper="1.570796" effort="1000000" velocity="1000000" />
    </joint>
    <joint name="leg4_MG996t_tibia" type="fixed">
        <origin xyz="-0.018031230000000013 0.0024041600000000154 0.005250000000000004" rpy="-3.141592653589793 -5.592845782213225e-17 -4.850773625799853e-32" />
        <parent link="leg4_MG996t" />
        <child link="leg4_tibia" />
    </joint>
    <joint name="leg4_tibia_shield" type="fixed">
        <origin xyz="0.05794487000000002 0.07392548000000002 0.02124999999999999" rpy="3.141592653589793 -1.5707963267948966 0" />
        <parent link="leg4_tibia" />
        <child link="leg4_shield" />
    </joint>

    <!--Leg 5 joints-->
    <joint name="base_link_leg5_MG996c" type="fixed">
        <origin xyz="0.046200000000000005 0.00525 0.013999999999999999" rpy="3.141592653589793 -0.0 0.0" />
        <parent link="base_link" />
        <child link="leg5_MG996c" />
    </joint>
    <joint name="leg5_coxa_joint" type="revolute">
        <origin xyz="0.03495 0.00525 -0.01005" rpy="3.141592653589793 -0.0 0.0" />
        <parent link="leg5_MG996c" />
        <child link="leg5_coxa" />
        <axis xyz="0.0 0.0 1.0" />
        <limit lower="-1.570796" upper="1.570796" effort="1000000" velocity="1000000" />
    </joint>
    <joint name="leg5_coxa_MG996f" type="fixed">
        <origin xyz="0.037750000000000006 -0.006999999999999999 -0.04585" rpy="-3.141592653589793 -1.5707963267948966 0" />
        <parent link="leg5_coxa" />
        <child link="leg5_MG996f" />
    </joint>
    <joint name="leg5_femur_joint" type="revolute">
        <origin xyz="0.03495 0.010050000000000002 0.005249999999999986" rpy="-3.141592653589793 -1.5707963267948966 0" />
        <parent link="leg5_MG996f" />
        <child link="leg5_femur" />
        <axis xyz="0.0 -1.0 0.0" />
        <limit lower="-2.356194" upper="0.785398" effort="1000000" velocity="1000000" />
    </joint>
    <joint name="leg5_tibia_joint" type="revolute">
        <origin xyz="0.029583280000000017 -0.0009999999999999987 0.06344155000000001" rpy="-3.141592653589793 -3.627598386426402e-33 0.0" />
        <parent link="leg5_femur" />
        <child link="leg5_MG996t" />
        <axis xyz="0.0 -1.0 2.229123157024303e-33" />
        <limit lower="0.0" upper="1.570796" effort="1000000" velocity="1000000" />
    </joint>
    <joint name="leg5_MG996t_tibia" type="fixed">
        <origin xyz="-0.014450000000000003 -0.01105 -0.005250000000000004" rpy="3.141592653589793 -3.627598386426413e-33 8.086363567567113e-66" />
        <parent link="leg5_MG996t" />
        <child link="leg5_tibia" />
    </joint>
    <joint name="leg5_tibia_shield" type="fixed">
        <origin xyz="0.09324640999999999 0.0113 0.010749999999999994" rpy="3.141592653589793 -1.5707963267948966 0" />
        <parent link="leg5_tibia" />
        <child link="leg5_shield" />
    </joint>

    <!--Leg 6 joints-->
    <joint name="base_link_leg6_MG996c" type="fixed">
        <origin xyz="0.04006515 -0.05264053 0.013999999999999999" rpy="3.141592653589793 -0.0 0.0" />
        <parent link="base_link" />
        <child link="leg6_MG996c" />
    </joint>
    <joint name="leg6_coxa_joint" type="revolute">
        <origin xyz="0.021001069999999997 0.028425690000000003 -0.01005" rpy="3.141592653589793 -0.0 0.0" />
        <parent link="leg6_MG996c" />
        <child link="leg6_coxa" />
        <axis xyz="0.0 0.0 1.0" />
        <limit lower="-1.570796" upper="1.570796" effort="1000000" velocity="1000000" />
    </joint>
    <joint name="leg6_coxa_MG996f" type="fixed">
        <origin xyz="0.02174353 -0.03164303 -0.04585" rpy="-3.141592653589793 -1.5707963267948966 0" />
        <parent link="leg6_coxa" />
        <child link="leg6_MG996f" />
    </joint>
    <joint name="leg6_femur_joint" type="revolute">
        <origin xyz="0.03495 0.010818729999999999 -0.0033941100000000014" rpy="-3.141592653589793 -1.5707963267948966 0" />
        <parent link="leg6_MG996f" />
        <child link="leg6_femur" />
        <axis xyz="-0.707107 -0.7071070000000002 0.0" />
        <limit lower="-2.356194" upper="0.785398" effort="1000000" velocity="1000000" />
    </joint>
    <joint name="leg6_tibia_joint" type="revolute">
        <origin xyz="0.020211430000000002 -0.02162564999999999 0.06344154999999999" rpy="3.141592653589793 -0.0 -5.5511151231257815e-17" />
        <parent link="leg6_femur" />
        <child link="leg6_MG996t" />
        <axis xyz="0.707107 -0.707107 0.0" />
        <limit lower="0.0" upper="1.570796" effort="1000000" velocity="1000000" />
    </joint>
    <joint name="leg6_MG996t_tibia" type="fixed">
        <origin xyz="-0.0024041599999999976 -0.018031230000000013 0.005250000000000004" rpy="3.141592653589793 -0.0 -5.55111512312578e-17" />
        <parent link="leg6_MG996t" />
        <child link="leg6_tibia" />
    </joint>
    <joint name="leg6_tibia_shield" type="fixed">
        <origin xyz="0.07392547999999997 -0.05794487000000002 0.02125" rpy="-3.141592653589793 -1.5707963267948966 0" />
        <parent link="leg6_tibia" />
        <child link="leg6_shield" />
    </joint>
</robot>
